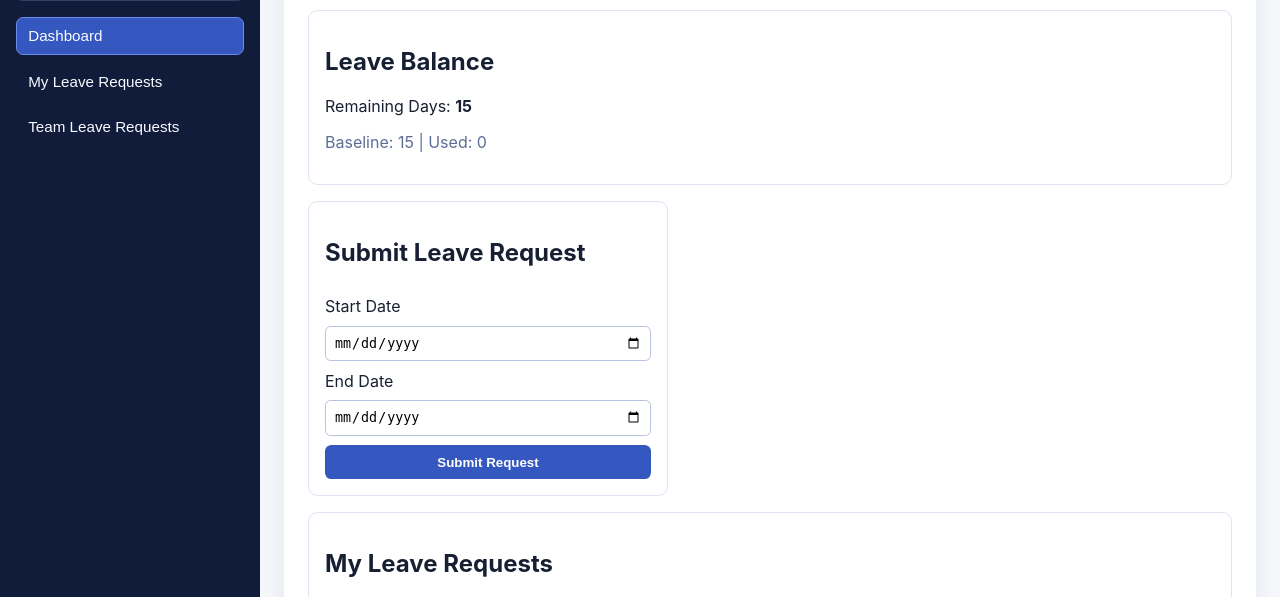
Scenario: App › shows friendly error when leave submission request fails at network level
Expected: the text "Remaining Days: 15" is shown, [325,96,472,116]
Type "2026-09-01" into the date field labelled "Start Date". click: (488, 343)
box: [325,326,651,361]
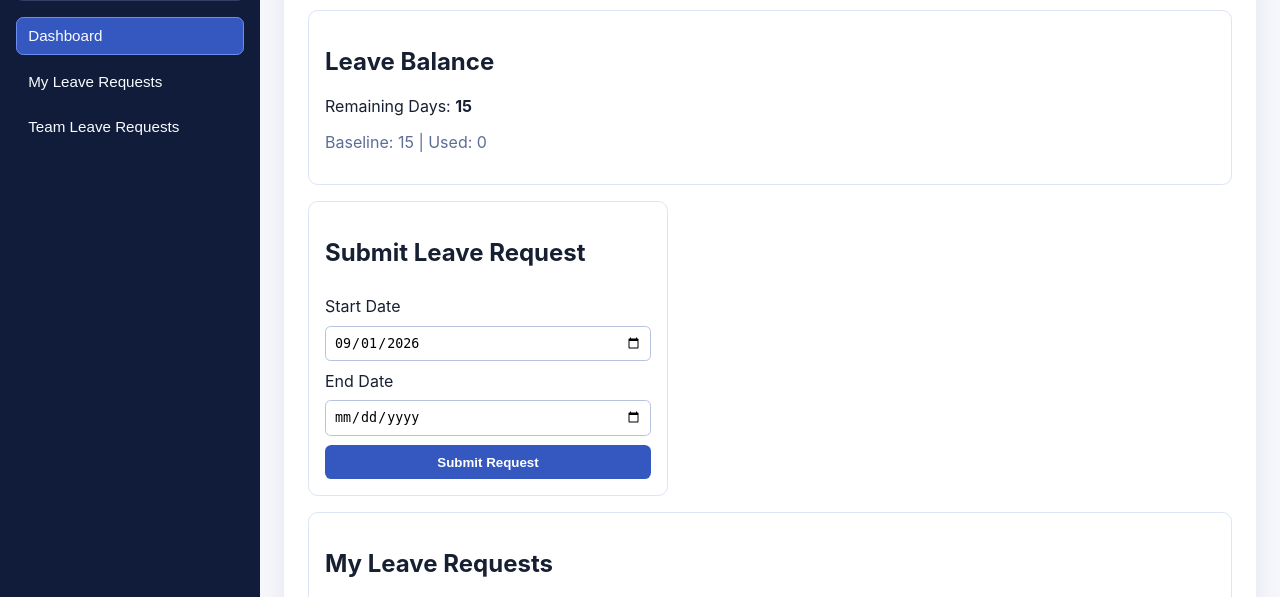
Type "2026-09-02" into the date field labelled "End Date". click: (488, 418)
box: [325,400,651,436]
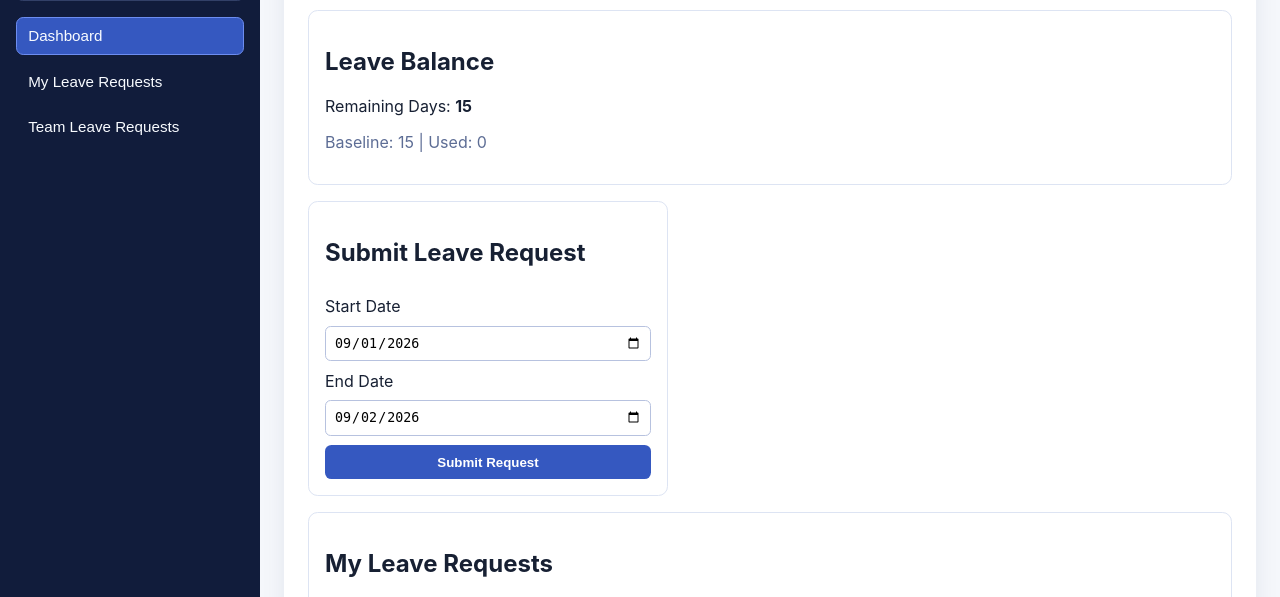
Click the button "Submit Request". click: (488, 462)
box: [325,445,651,479]
(page scrolled)
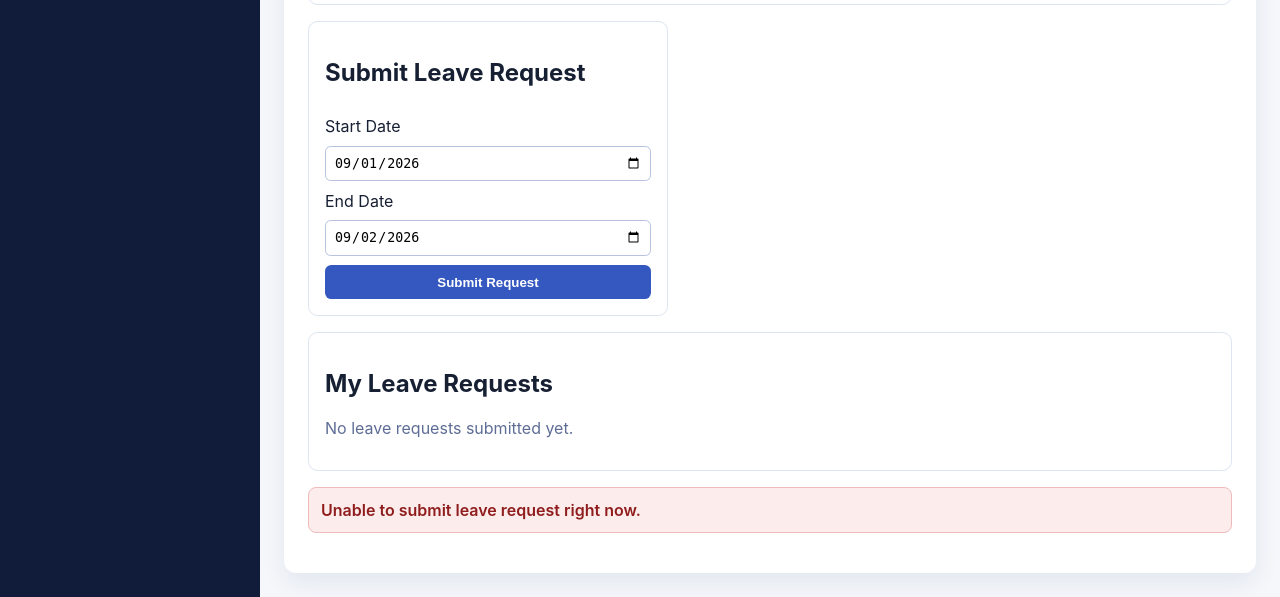
Expected: the message reads "Unable to submit leave request right now.", [321,500,641,520]
